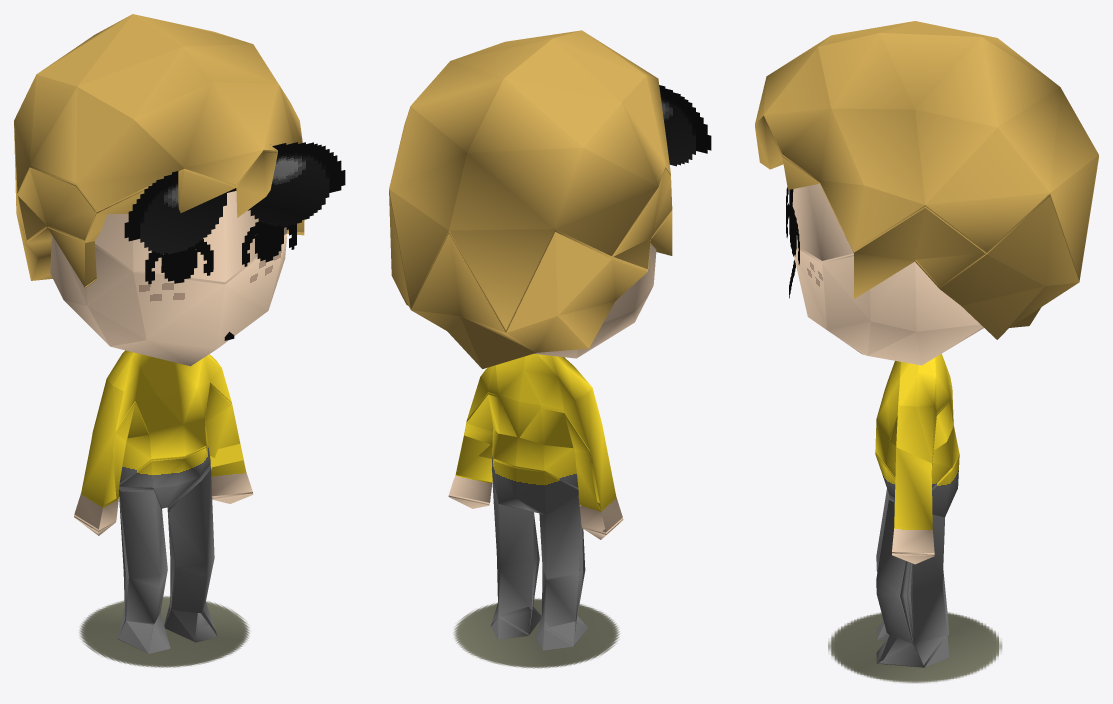
The model's file is anim_baby.glb.
3 renders of one model, left to right at view 1: azimuth 30°, elevation 25°; view 2: azimuth 150°, elevation 25°; view 3: azimuth 270°, elevation 25°, orthographic. The views are drawn at different scales.
Visible parts, largest first — view 1: 4, 9, 1, 7, 2, 8, 6, 3; view 2: 4, 9, 1, 2, 6, 7, 8, 3; view 3: 4, 9, 1, 3, 8, 2, 6, 7.
Boxes of the visible parts, bbox=[...] form: 4: bbox=[14, 14, 345, 666]; 9: bbox=[14, 126, 344, 652]; 1: bbox=[14, 132, 345, 667]; 7: bbox=[14, 131, 343, 630]; 2: bbox=[14, 130, 344, 653]; 8: bbox=[15, 146, 344, 653]; 6: bbox=[14, 138, 344, 622]; 3: bbox=[117, 450, 251, 642]; 4: bbox=[389, 30, 711, 667]; 9: bbox=[389, 89, 711, 645]; 1: bbox=[389, 88, 711, 667]; 2: bbox=[389, 85, 710, 650]; 6: bbox=[389, 87, 711, 635]; 7: bbox=[390, 86, 711, 636]; 8: bbox=[389, 87, 703, 646]; 3: bbox=[491, 523, 580, 643]; 4: bbox=[755, 21, 1098, 682]; 9: bbox=[755, 118, 1098, 667]; 1: bbox=[755, 117, 1098, 682]; 3: bbox=[876, 447, 947, 664]; 8: bbox=[755, 117, 1098, 667]; 2: bbox=[755, 115, 1097, 667]; 6: bbox=[755, 116, 1098, 659]; 7: bbox=[755, 116, 1079, 657].
Size of the model in its own units: 1.2 by 2.62 by 1.33.
99 materials, 99 textured.
